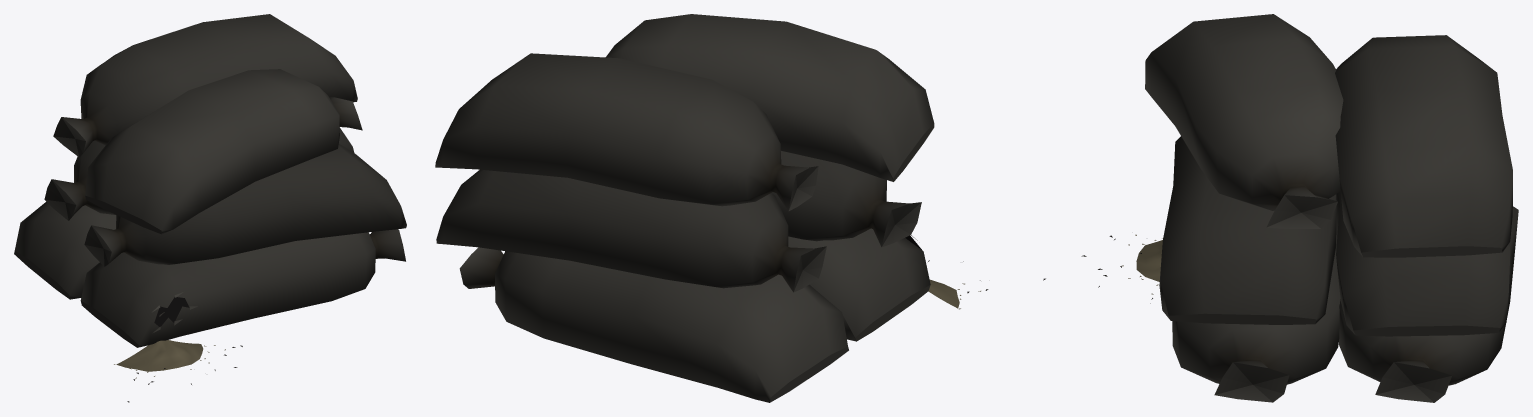
Rendered from prop_grain_sacks_gnawed.glb.
3 renders of one model, left to right at view 1: azimuth 30°, elevation 25°; view 2: azimuth 150°, elevation 25°; view 3: azimuth 270°, elevation 25°, orthographic. The views are drawn at different scales.
Visible parts, largest first — view 1: GrainSacksGnawedSoft, GrainSacksGnawed; view 2: GrainSacksGnawedSoft; view 3: GrainSacksGnawedSoft.
Boxes of the visible parts, box(x1,y1,x2,y2) form: GrainSacksGnawedSoft: box(14, 14, 406, 378); GrainSacksGnawed: box(127, 292, 242, 402); GrainSacksGnawedSoft: box(435, 14, 980, 402); GrainSacksGnawedSoft: box(1122, 14, 1518, 402).
Size of the model in its own units: 1.29 by 0.7657 by 1.15.
